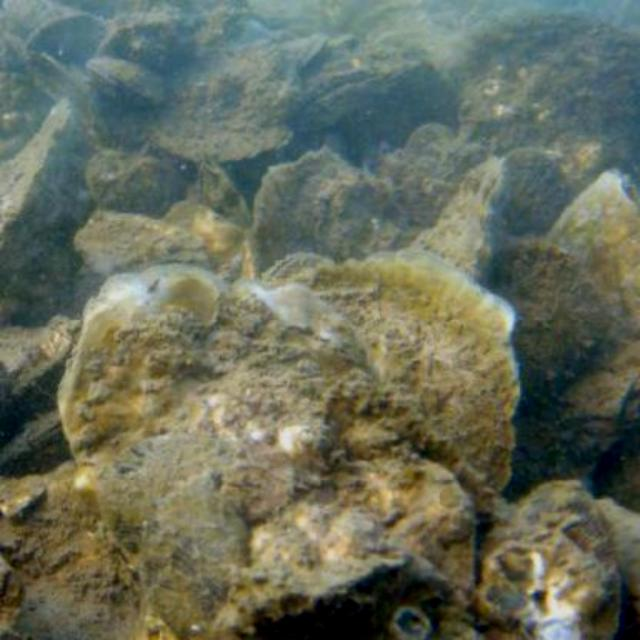Oyster-Closed: (64, 276, 490, 640), (295, 251, 523, 498), (511, 176, 640, 501), (480, 479, 623, 640), (254, 154, 407, 272), (500, 243, 604, 399), (419, 165, 513, 280), (78, 212, 206, 276), (87, 151, 185, 217), (293, 66, 384, 128), (504, 149, 564, 242), (26, 14, 112, 62), (88, 56, 163, 105)
